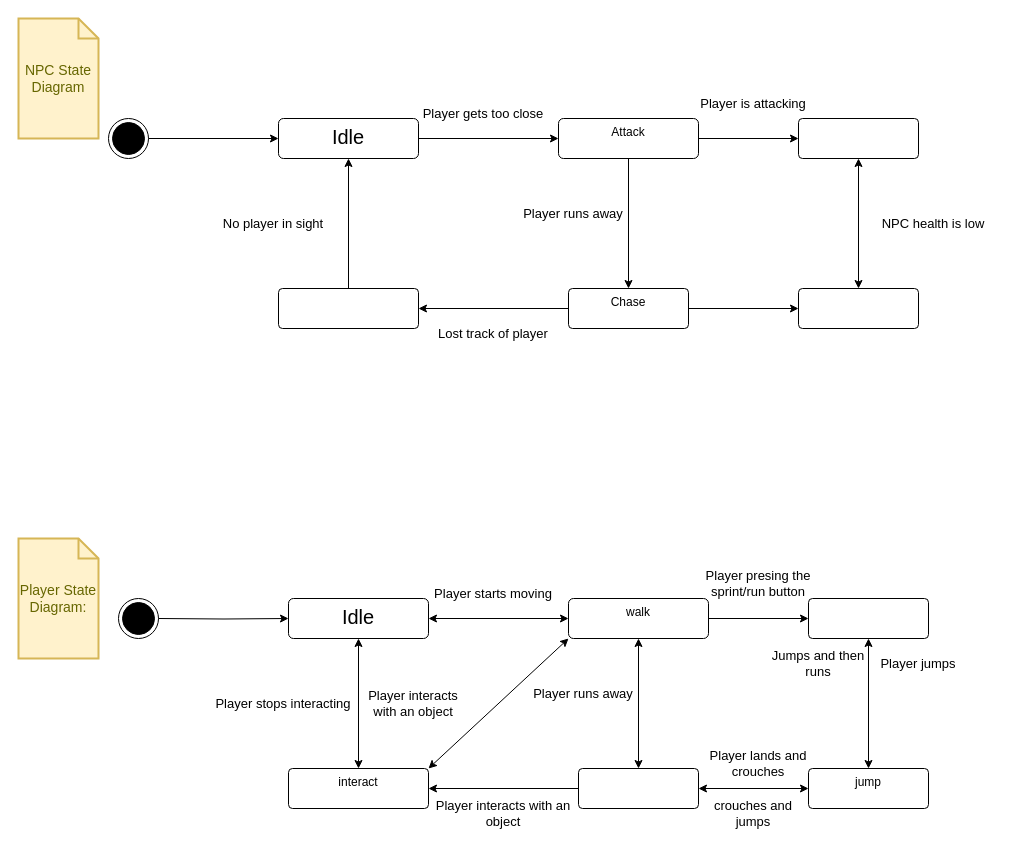
Some shapes in this 1025 by 846 pixel diagram are drawn without their labels. The centre of each missing label's shape, as x and y in pixels:
"Crouch" goes at point 638,788.
"Defend" goes at point 858,138.
"run" goes at point 868,618.
"run away" goes at point 858,308.
"wonder around" goes at point 348,308.
